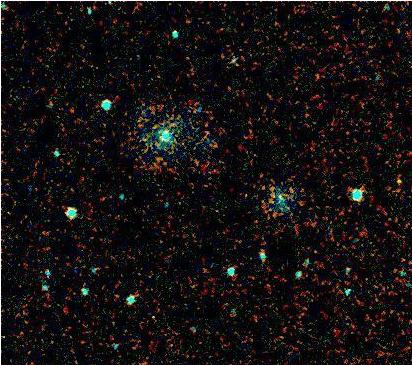star: (383, 170, 412, 200)
